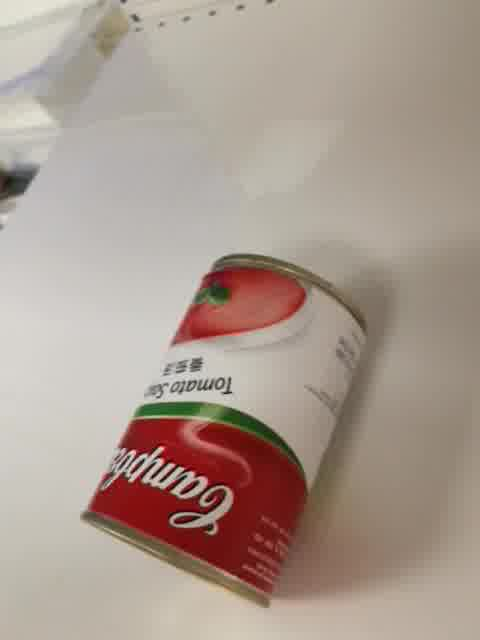tomatosoup: (79, 249, 371, 611)
